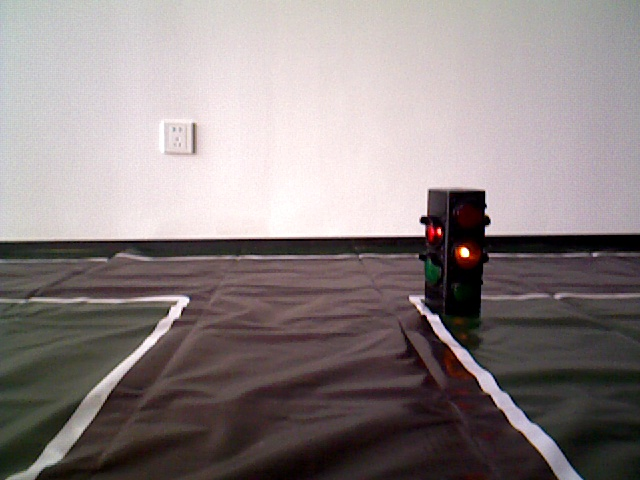yellow: (424, 192, 479, 308)
